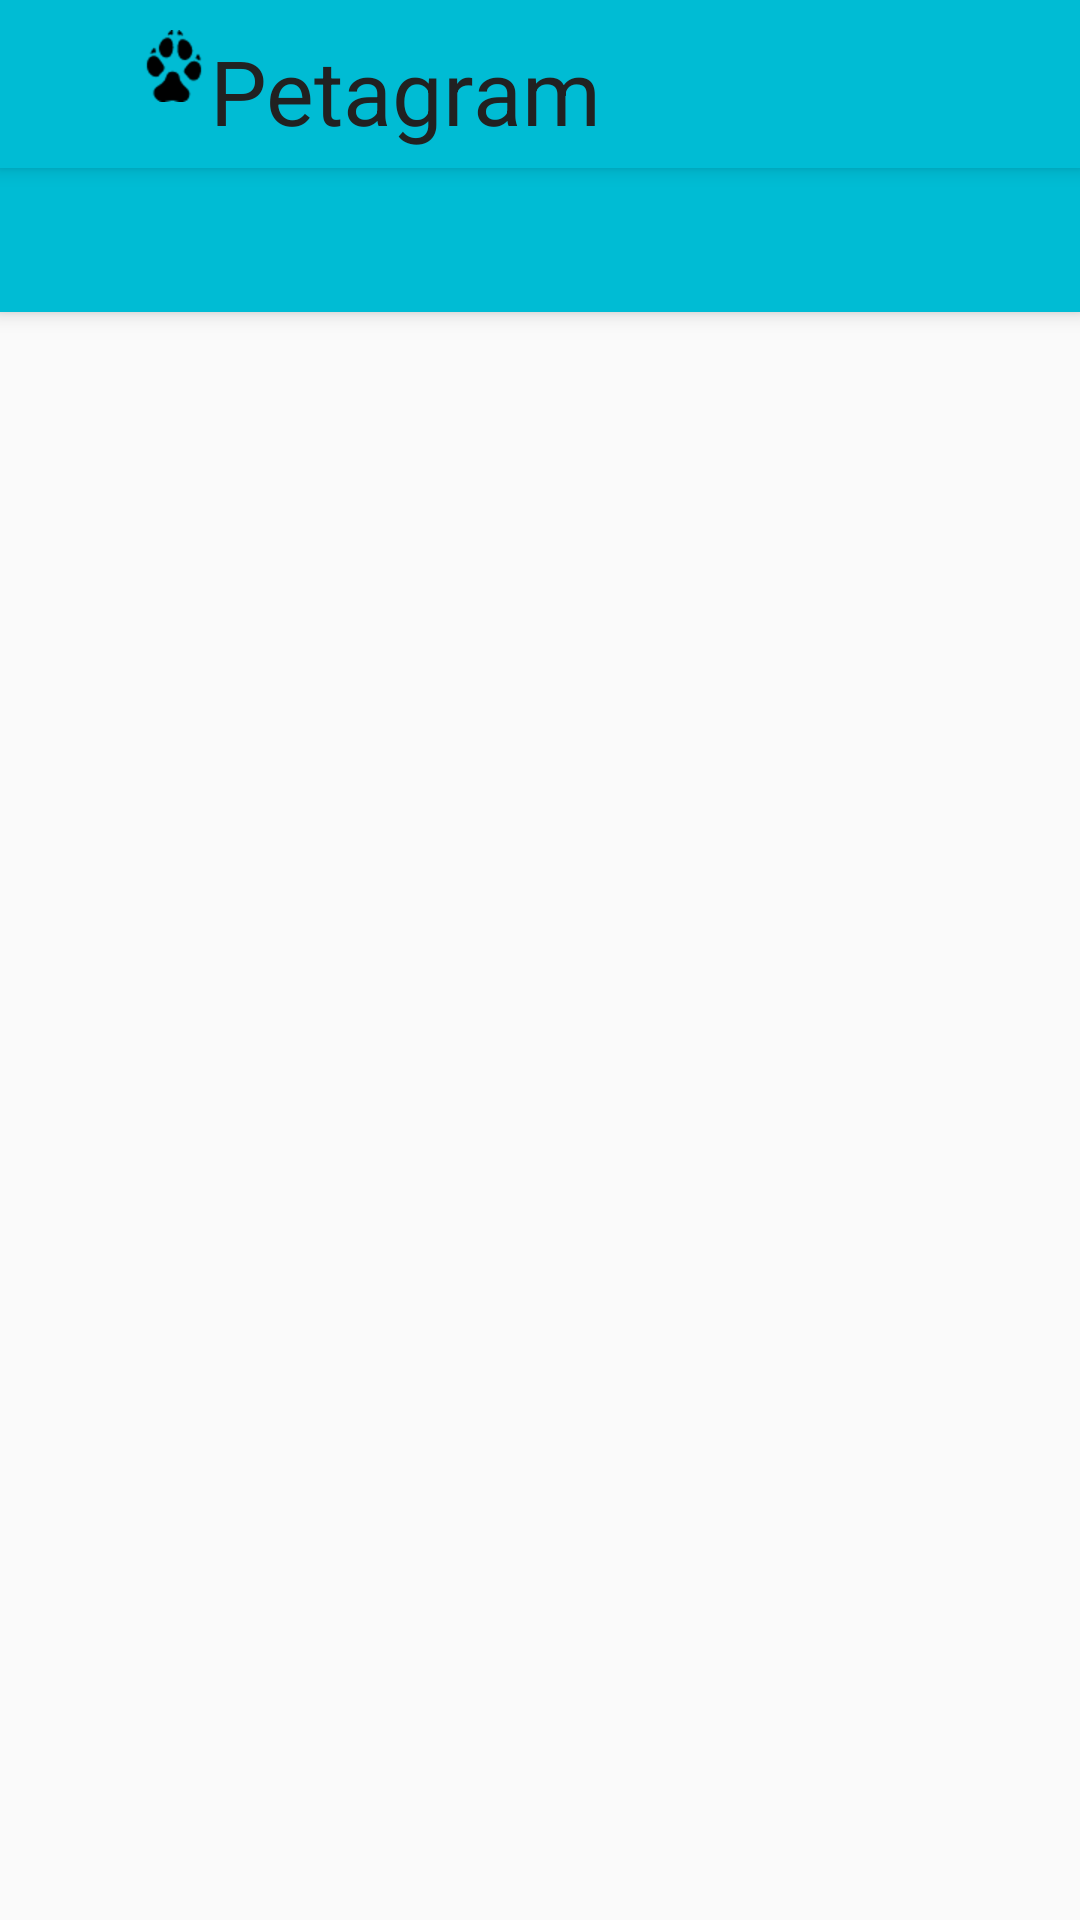

Icons on this 1080 x 1920 Android screen, each with its box as box(x1, y1, x2, y2):
huella de perro: box(146, 30, 202, 102)
